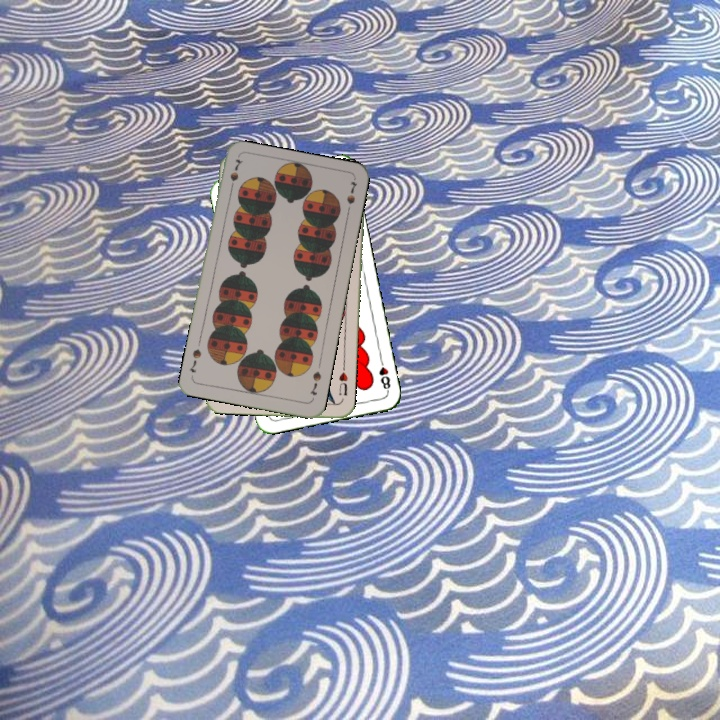H8: (375, 354, 393, 394)
HU: (335, 368, 350, 398)
S7: (226, 155, 245, 195), (306, 367, 324, 398)
